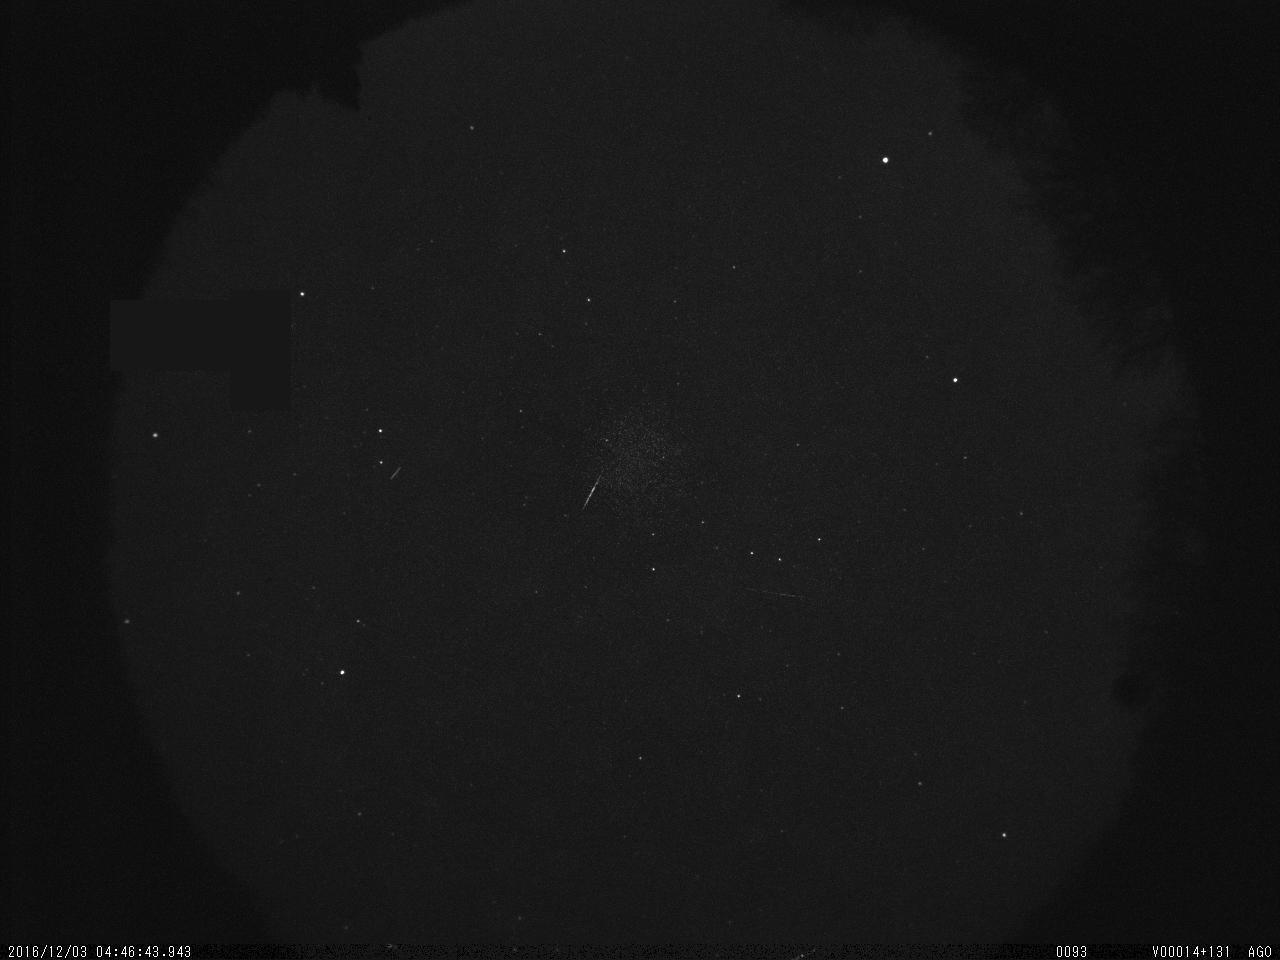meteor: (575, 455, 611, 522)
